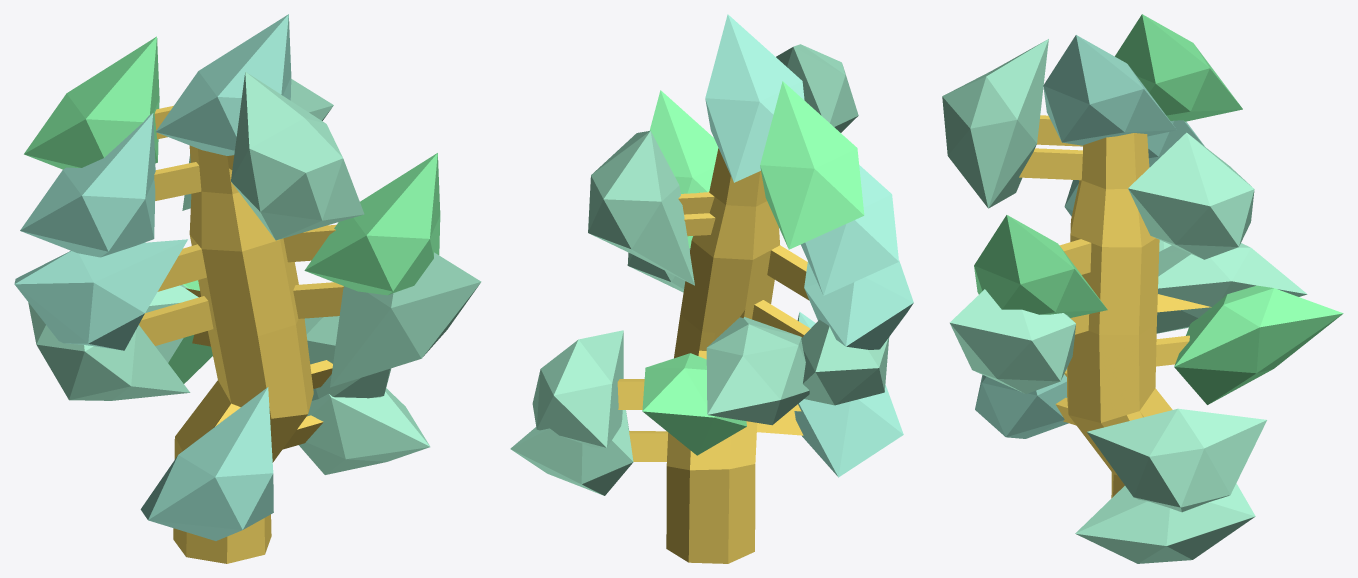
File: tree special.fbx
3 renders of one model, left to right at view 1: azimuth 30°, elevation 25°; view 2: azimuth 150°, elevation 25°; view 3: azimuth 270°, elevation 25°, orthographic. The views are drawn at different scales.
Parts seen in each view (by area): view 1: tree special; view 2: tree special; view 3: tree special.
Part boxes in pixels (x1,y1,x2,y2): tree special: [14, 14, 481, 563]; tree special: [510, 14, 913, 563]; tree special: [942, 14, 1343, 563].
Size of the model in its own units: 928 by 1209 by 854.
